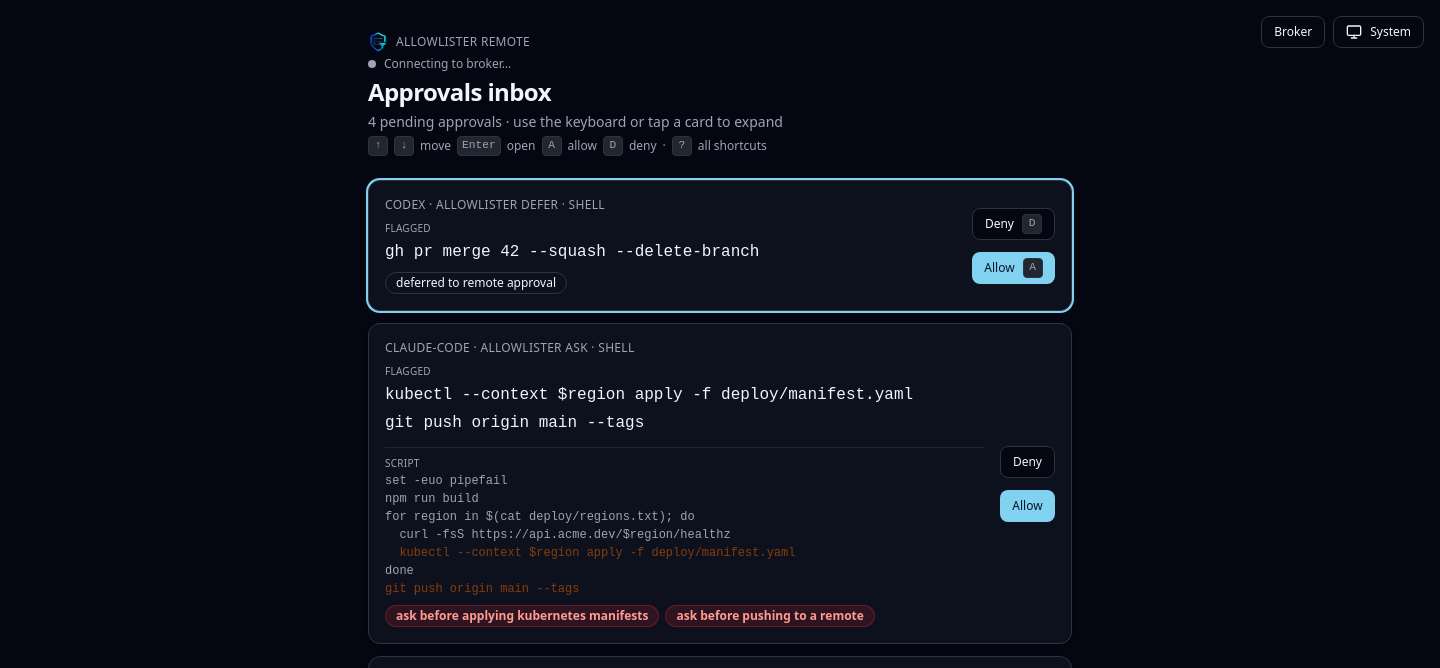
App inbox › renders 'no session' when the harness did not supply a session id
The width and height of the screenshot is (1440, 668).
# The one-off request comes from a harness (codex) with no session id.
Click the button with aria-label "Open approval for gh pr merge 42 --squash --delete-branch": (670, 246) x1=385 y1=197 x2=956 y2=294
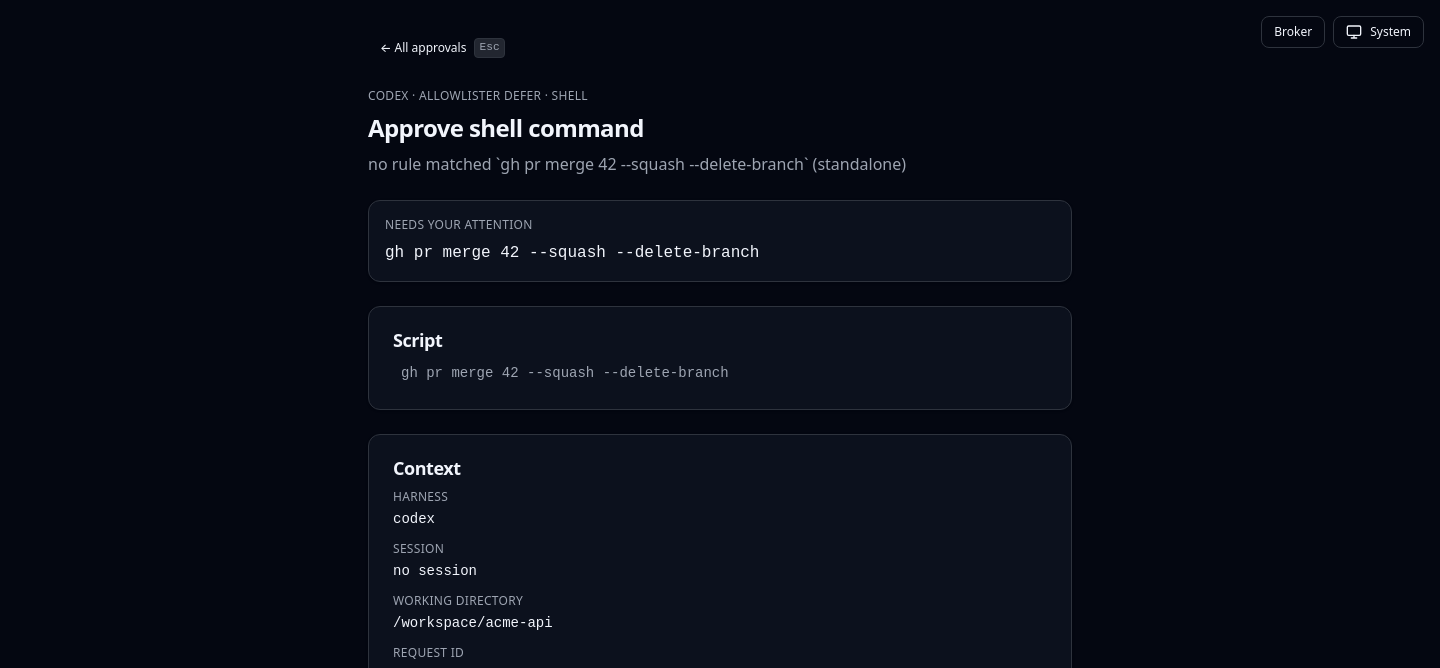
Expected: the heading "Approve shell command" is shown, x1=368 y1=111 x2=644 y2=144
Expected: the text "no session" is shown, x1=393 y1=563 x2=477 y2=579
